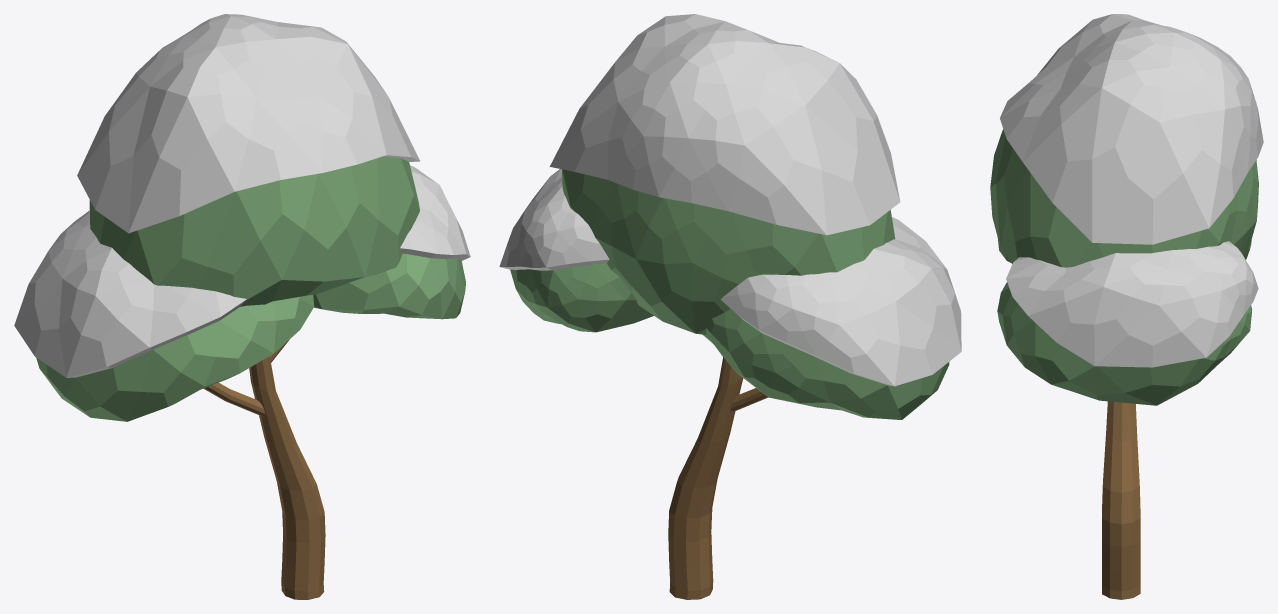
File: Tree2.fbx
3 views of the same model, side by side, from view 1: azimuth 30°, elevation 25°; view 2: azimuth 150°, elevation 25°; view 3: azimuth 270°, elevation 25° (orthographic). The views are drawn at different scales.
Parts seen in each view (by area): view 1: Tree2; view 2: Tree2; view 3: Tree2.
Boxes of the visible parts, x1=… form: Tree2: x1=14, y1=14, x2=470, y2=599; Tree2: x1=499, y1=14, x2=961, y2=599; Tree2: x1=990, y1=14, x2=1263, y2=599.
Bounding box in the file's own units: 530 × 721 × 330.
